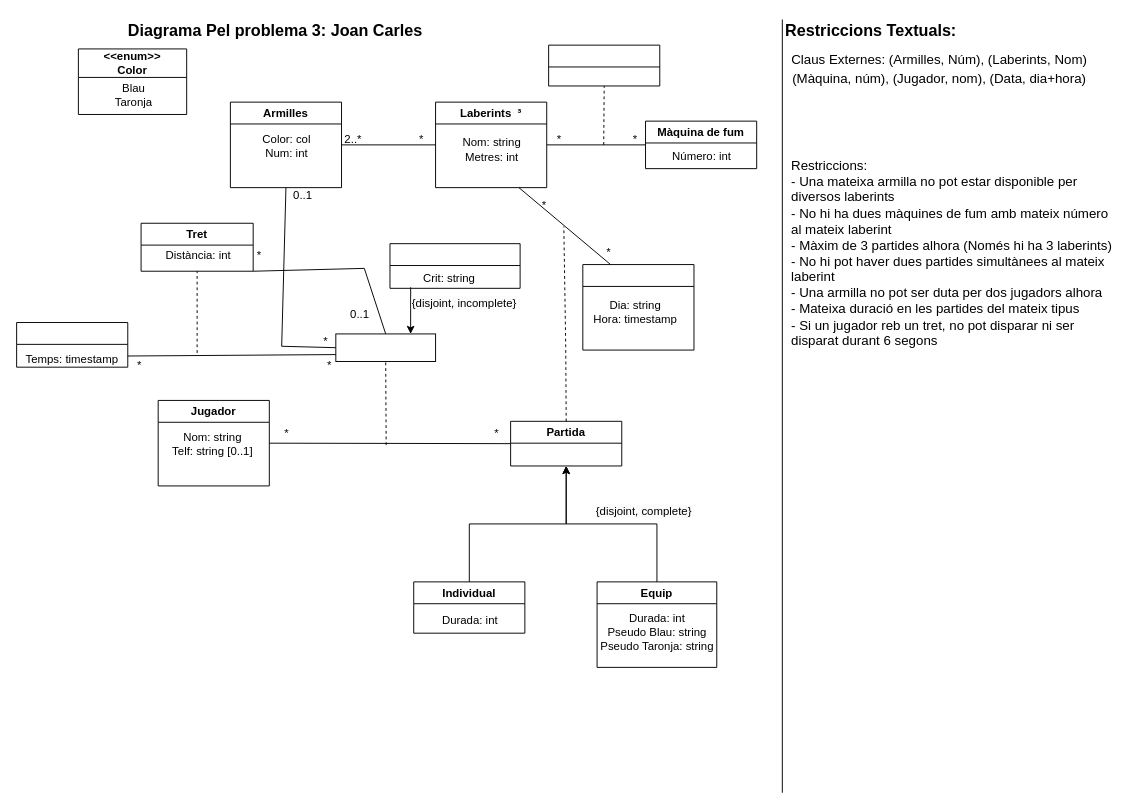
The diagram is 1137 pixels wide and 810 high, and some of its shapes have lost their labels. Each missing label, with the box of its shape:
A partida individual: (389, 243, 520, 288)
Data: (582, 264, 694, 350)
Localització: (548, 44, 660, 86)
Moment: (16, 322, 128, 367)
Participant: (335, 333, 436, 361)
